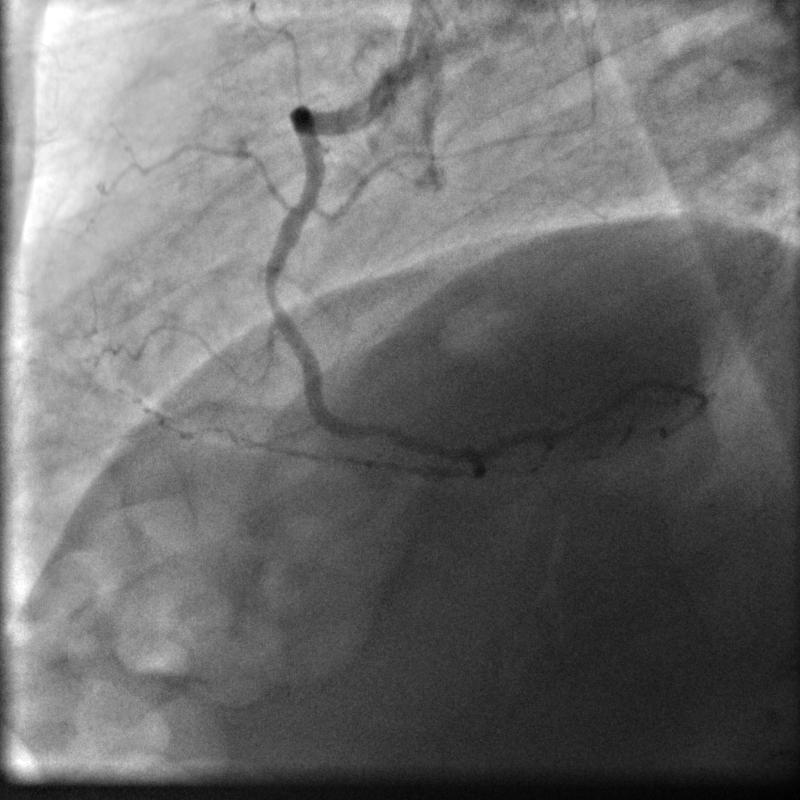Stenosis: (262, 283, 285, 311)
